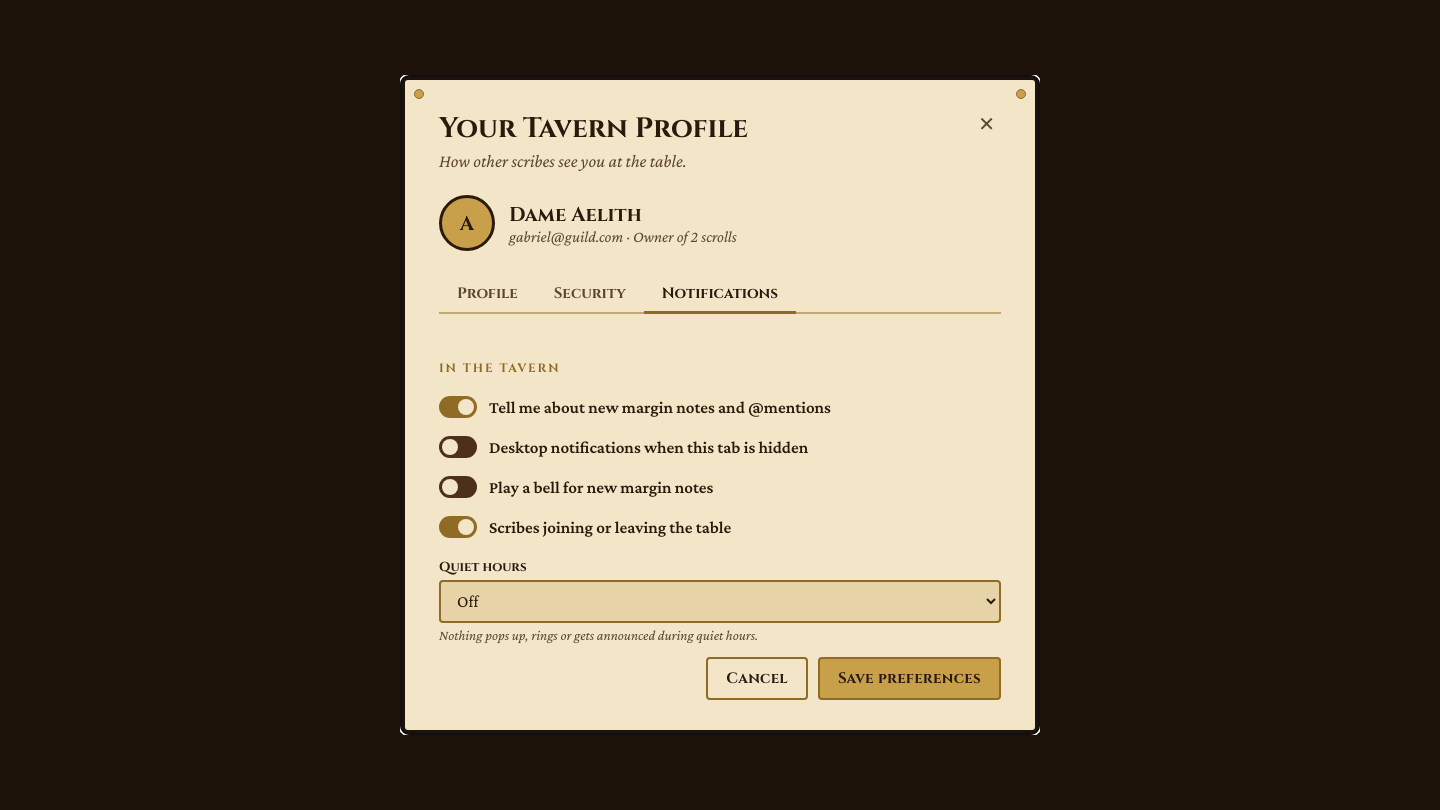
Scenario: ProfileModalComponent › notifications › turns the desktop switch back off when the browser says no, and explains
Click the switch labelled "Desktop notifications when this tab is hidden": coordinates (624, 447) left=439, top=436, right=808, bottom=458
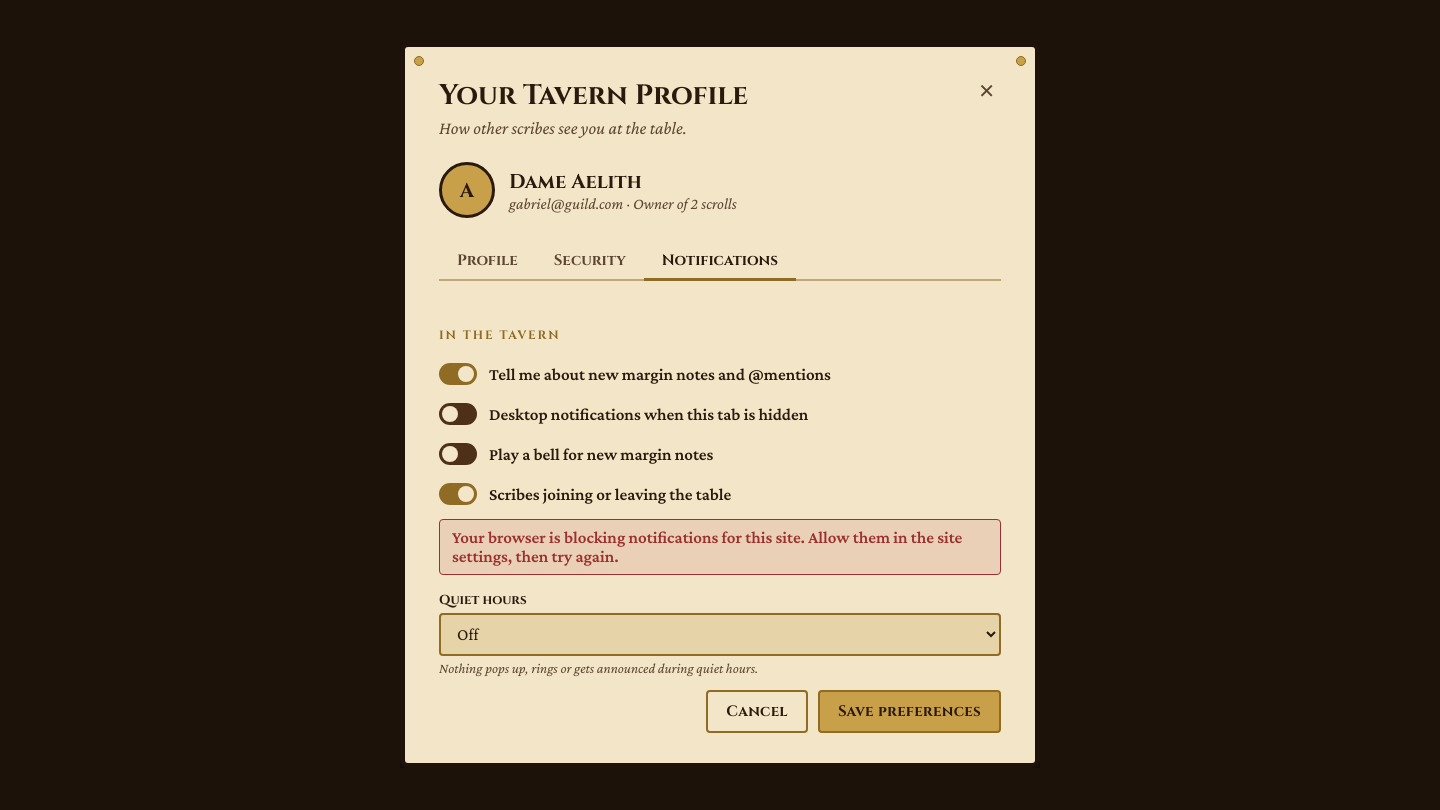
Expected: the message with class "alert" shows "blocking notifications", left=452, top=528, right=962, bottom=566
